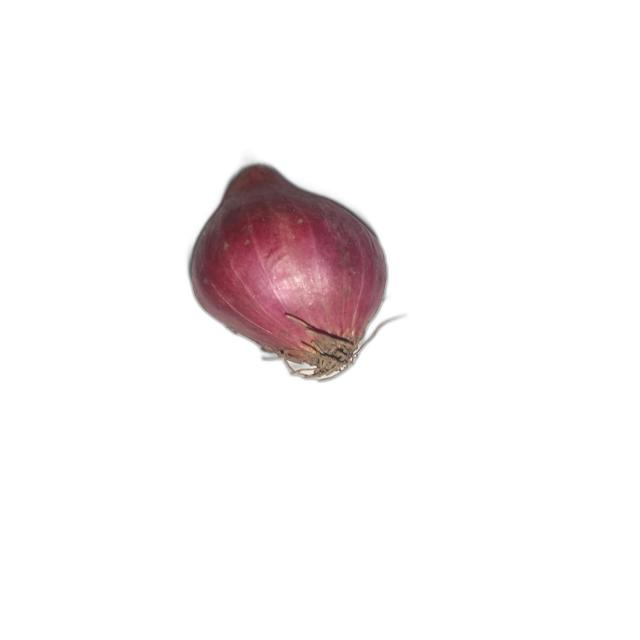onion: (188, 163, 406, 381)
